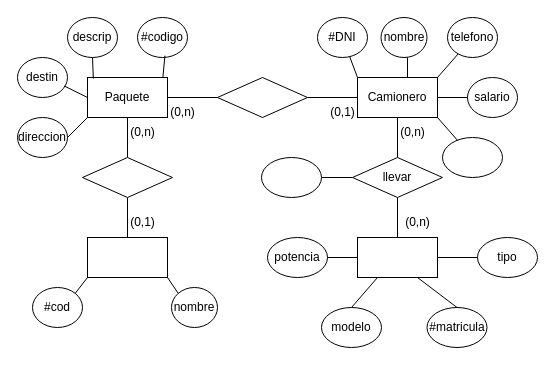
Some shapes in this 555 by 365 pixel diagram are drawn without their labels. Each missing label, with the box of its shape:
Camion: (356, 236, 438, 278)
fecha: (260, 156, 322, 198)
llegar: (82, 156, 172, 198)
poblacion: (442, 136, 502, 178)
Provincia: (86, 236, 168, 278)
Transportar: (216, 76, 308, 118)
